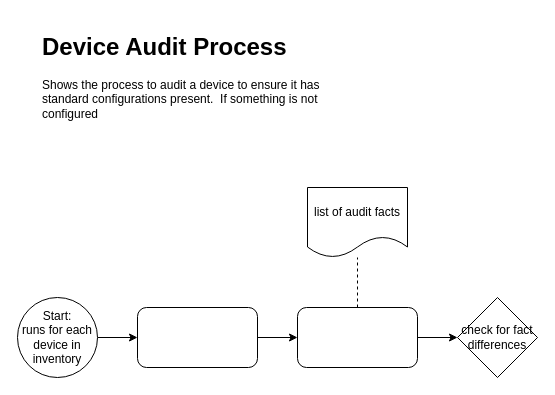
The diagram is 555 pixels wide and 395 high, and some of its shapes have lost their labels. The box of each missing label's shape, as (x1, y1, x2, y2) in pixels:
backup the entire device config: (136, 306, 258, 368)
grab facts that need to be audited from device: (296, 306, 418, 368)
